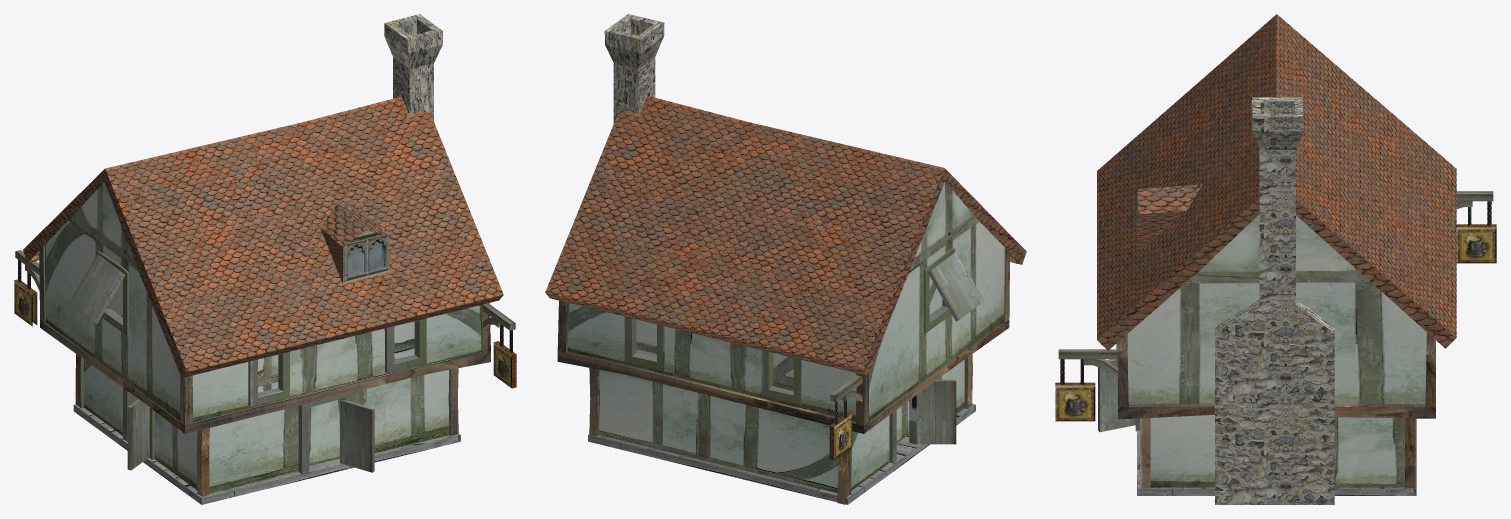
3 views of the same model, side by side, from view 1: azimuth 30°, elevation 25°; view 2: azimuth 150°, elevation 25°; view 3: azimuth 270°, elevation 25° (orthographic). The views are drawn at different scales.
Parts seen in each view (by area): view 1: inn_closed.001; view 2: inn_closed.001; view 3: inn_closed.001.
Part boxes in pixels (x1=…): inn_closed.001: x1=14, y1=14, x2=516, y2=504; inn_closed.001: x1=545, y1=14, x2=1026, y2=504; inn_closed.001: x1=1055, y1=14, x2=1496, y2=504.
Size of the model in its own units: 1115 by 1100 by 1105.
9 materials, 9 textured.
